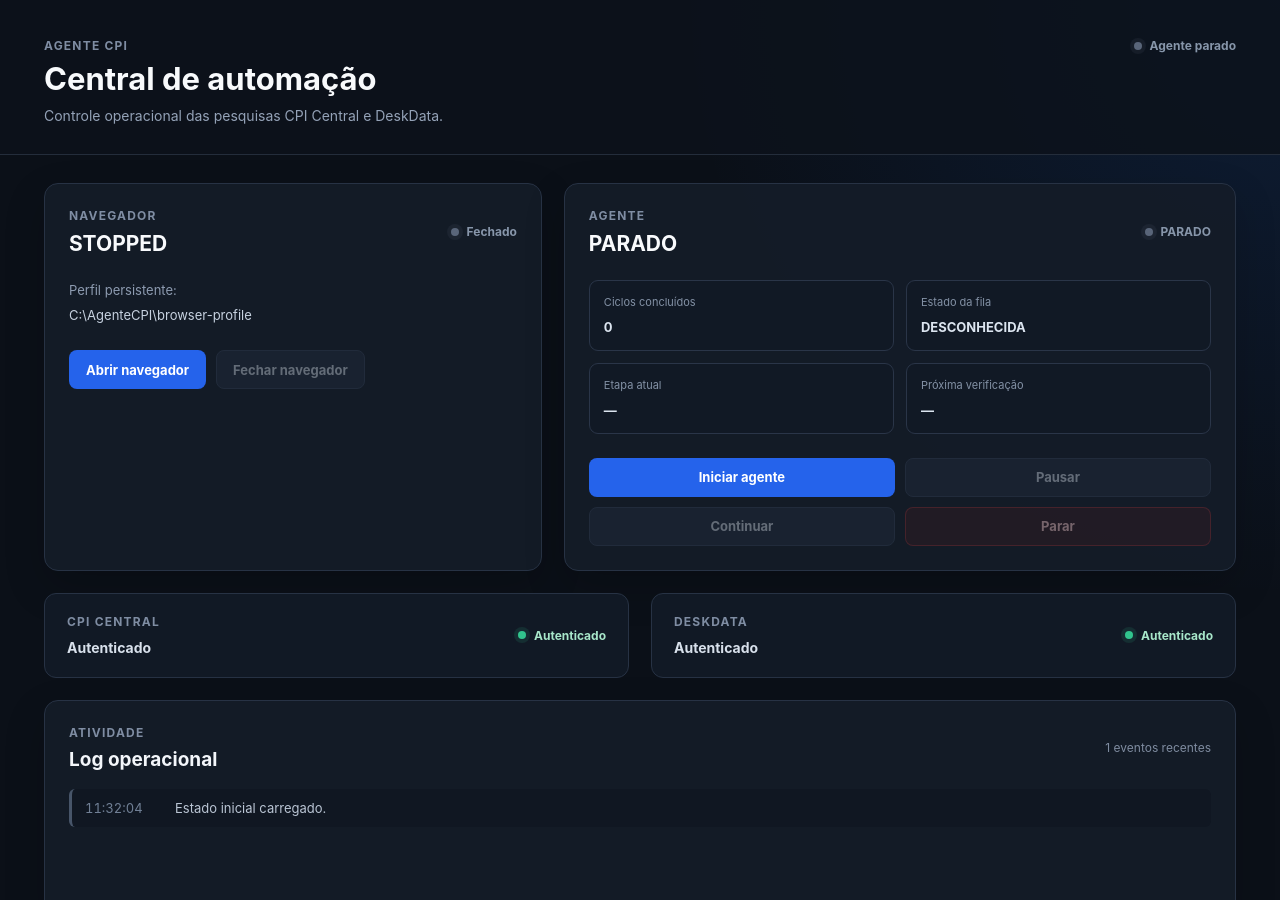
Test: AgentDashboard contínuo › preserva o log de sucesso quando a atualização secundária falha
Expected: the text "PARADO" is shown, [589, 231, 677, 256]
Click the button "Iniciar agente": point(742, 477) [589, 458, 895, 497]
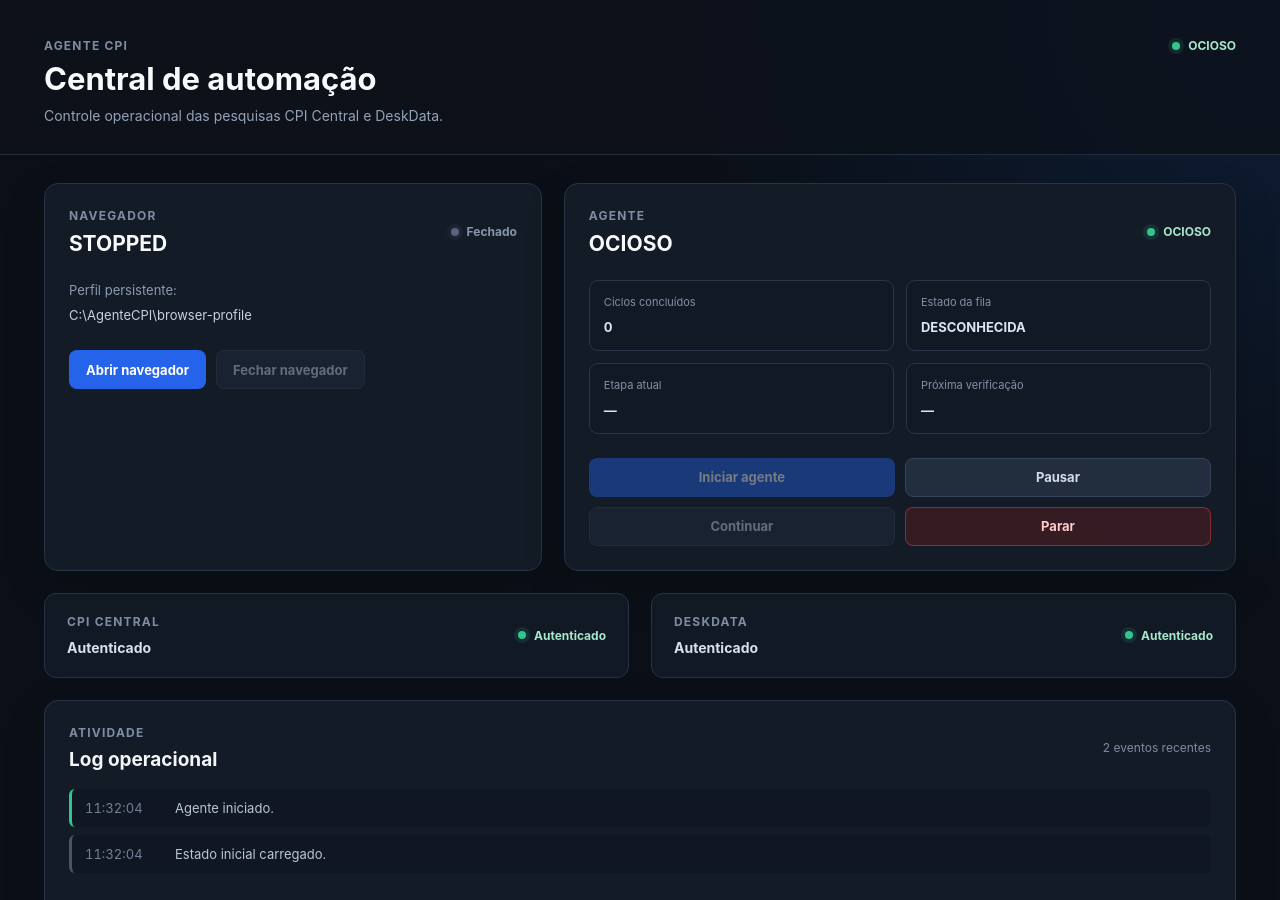
Now the text "Agente iniciado." is shown, box [175, 800, 274, 816]
